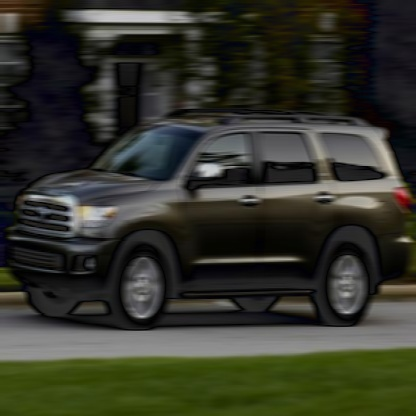Vehicle: (8, 109, 413, 333)
